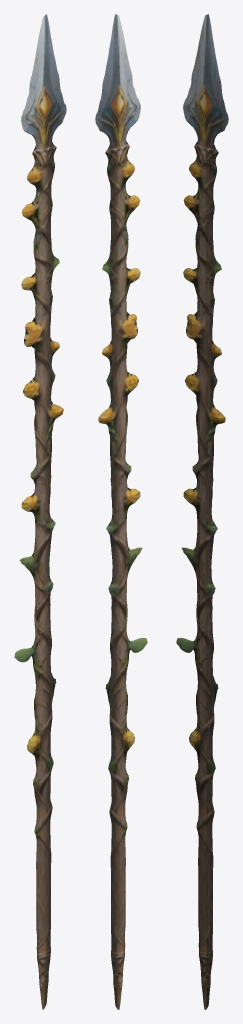
The model's file is flower_spears.glb.
The picture shows the model from 3 angles, left to right: view 1: azimuth 30°, elevation 25°; view 2: azimuth 210°, elevation 25°; view 3: azimuth 330°, elevation 25°; orthographic projection.
Parts seen in each view (by area): view 1: Grid; view 2: Grid; view 3: Grid.
Boxes of the visible parts, x1=… form: Grid: x1=14, y1=14, x2=66, y2=1009; Grid: x1=95, y1=14, x2=147, y2=1009; Grid: x1=176, y1=14, x2=228, y2=1009.
Bounding box in the file's own units: 0.4031 × 7.33 × 0.0418.
1 material, 1 textured.
